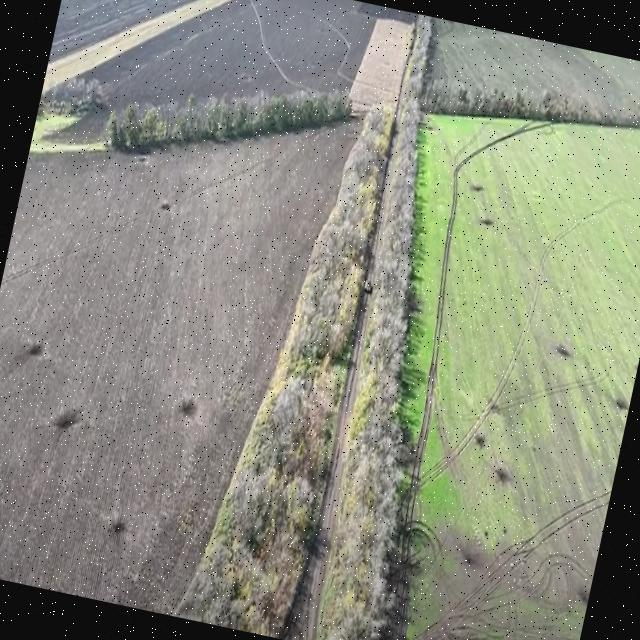MBT: (361, 278, 375, 298)
